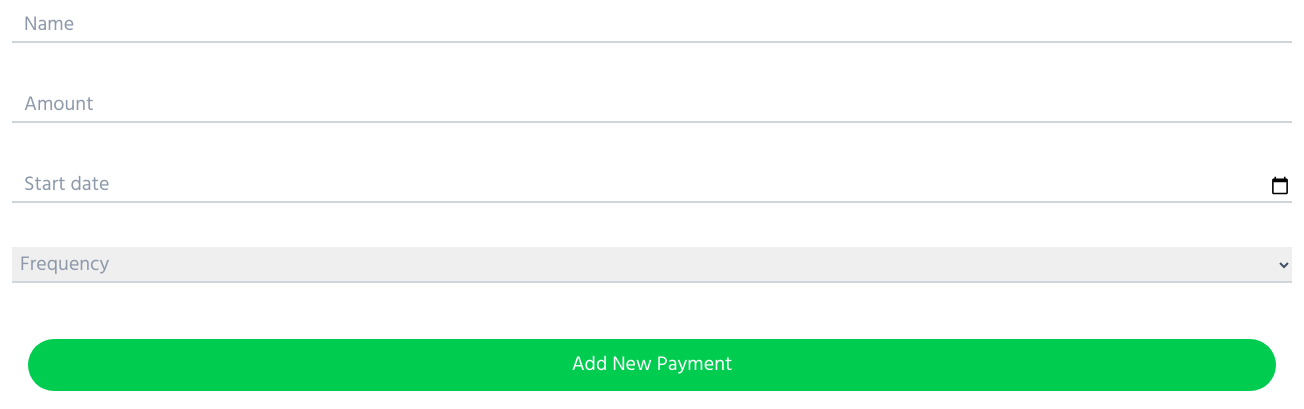
Scenario: when <PaymentForm /> renders › and no fields are filled › should display an error message on submit
Click the button "Add New Payment" at x=652, y=365, box [28,339,1276,391]
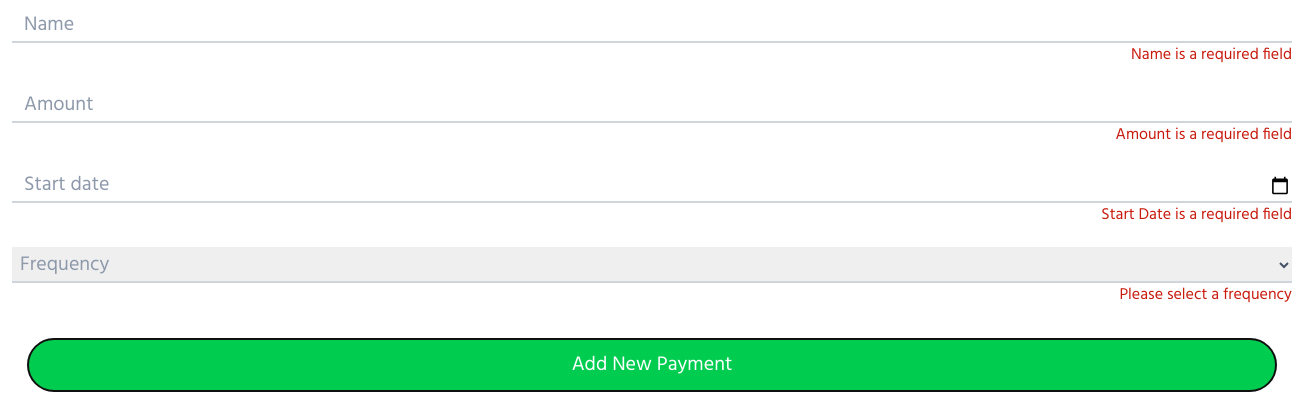
Check: the number of elements with test id "formError" is 4, box [1131,43,1292,67]; [1116,123,1292,147]; [1101,203,1292,227]; [1119,283,1292,307]
